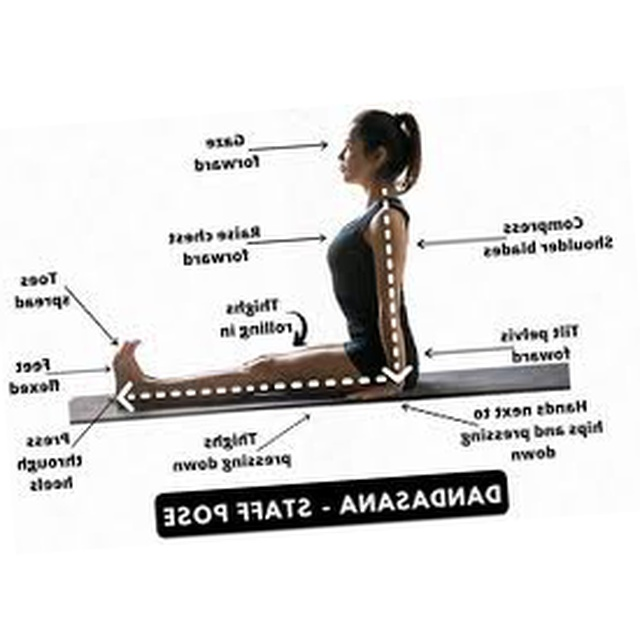Staff_Pose: (112, 111, 424, 410)
